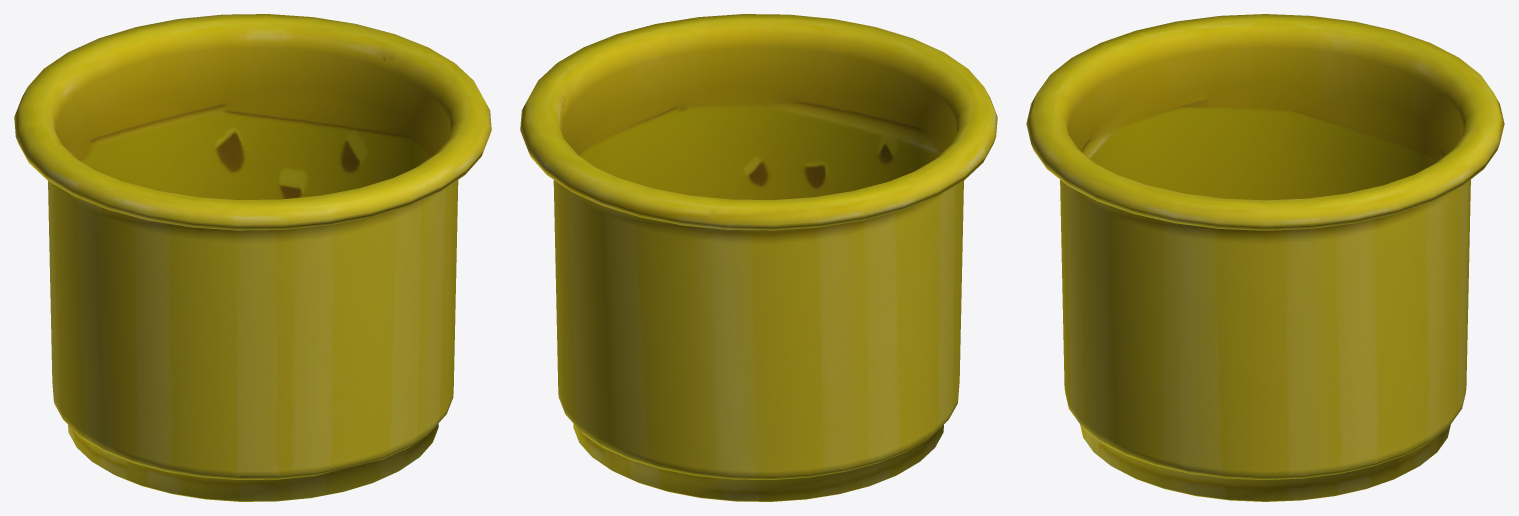
Rendered from 065-j_cups.dae.
The picture shows the model from 3 angles, left to right: view 1: azimuth 30°, elevation 25°; view 2: azimuth 150°, elevation 25°; view 3: azimuth 270°, elevation 25°; orthographic projection.
Visible parts, largest first — view 1: 065-j_cups; view 2: 065-j_cups; view 3: 065-j_cups.
Part boxes in pixels (x1,y1,x2,y2): 065-j_cups: (14, 14, 491, 501); 065-j_cups: (520, 14, 997, 501); 065-j_cups: (1026, 14, 1504, 501).
Bounding box in the file's own units: 0.103 × 0.103 × 0.0749.
Materials: 1 (1 with a texture image).
